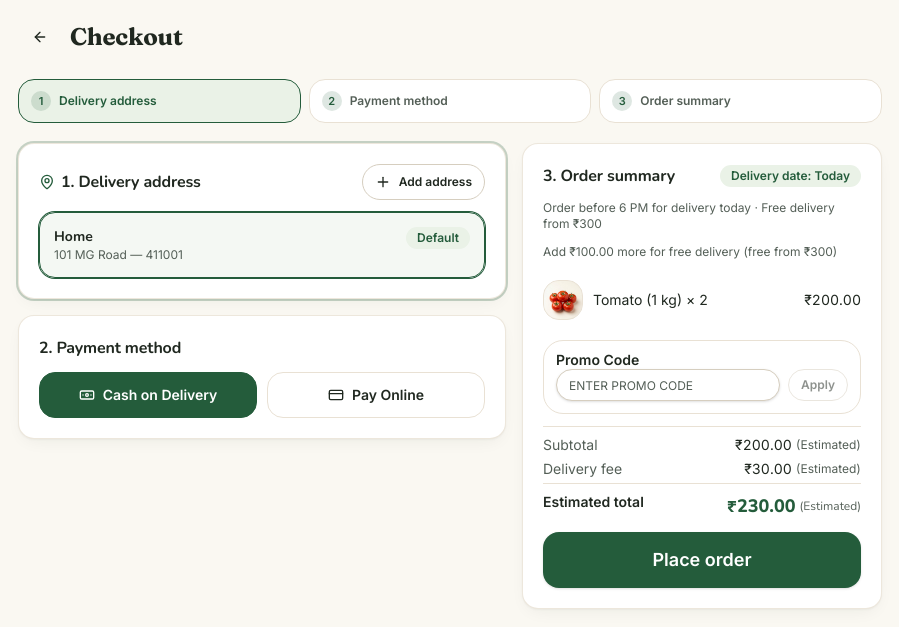
Scenario: Customer Journey QA Stage 3 — Payments (COD & Razorpay) › completes COD checkout without initiating online payment and records COD method
Expected: the text "Home" is shown, [54,227,93,246]
Click the button "Place order" at point(702, 560), box [543,532,861,588]
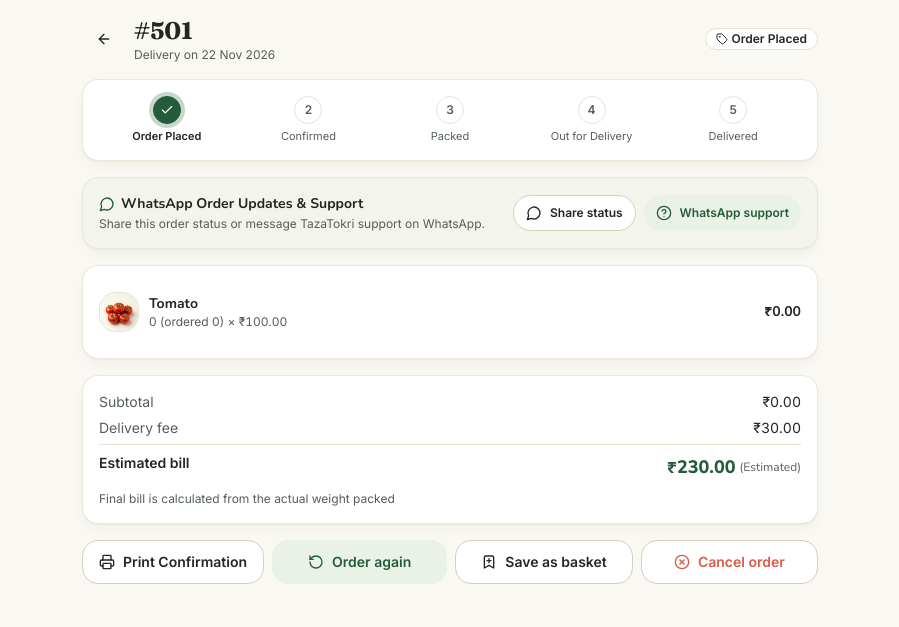
Expected: the heading "#501" is shown, [134,16,192,45]
